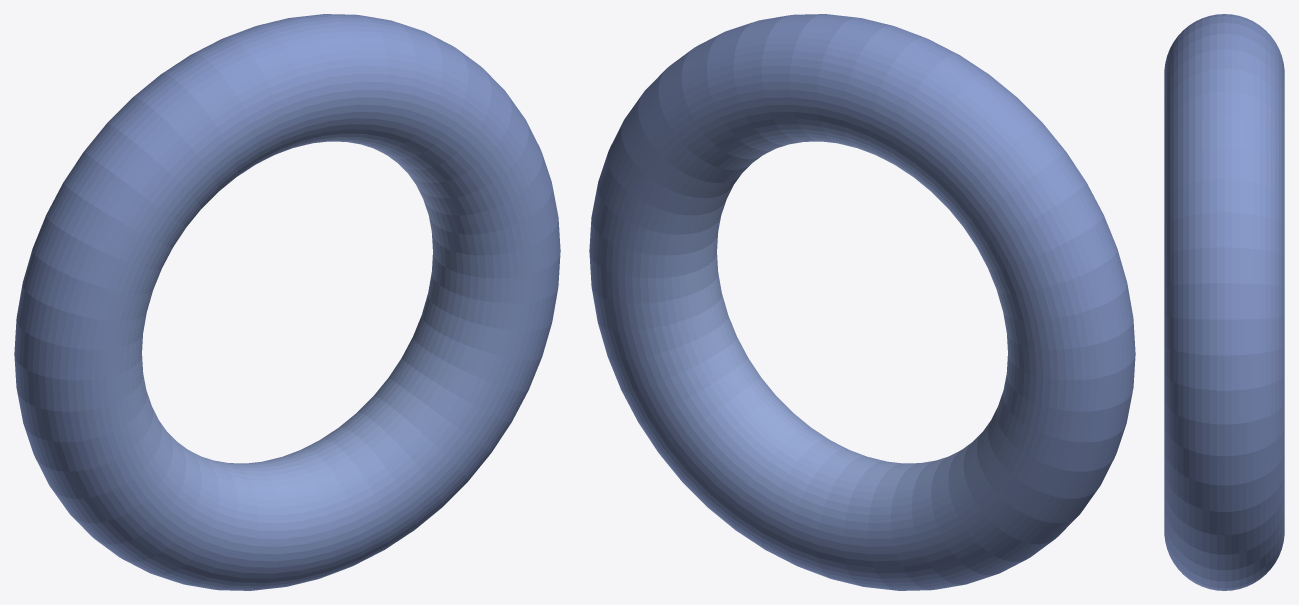
3 renders of one model, left to right at view 1: azimuth 30°, elevation 25°; view 2: azimuth 150°, elevation 25°; view 3: azimuth 270°, elevation 25°, orthographic. The views are drawn at different scales.
Visible parts, largest first — view 1: world; view 2: world; view 3: world.
Boxes of the visible parts, x1,y1,x2,y2 form: world: [14, 14, 560, 590]; world: [589, 14, 1135, 590]; world: [1164, 14, 1284, 590].
Bounding box in the file's own units: 21.07 × 21.03 × 4.39.
